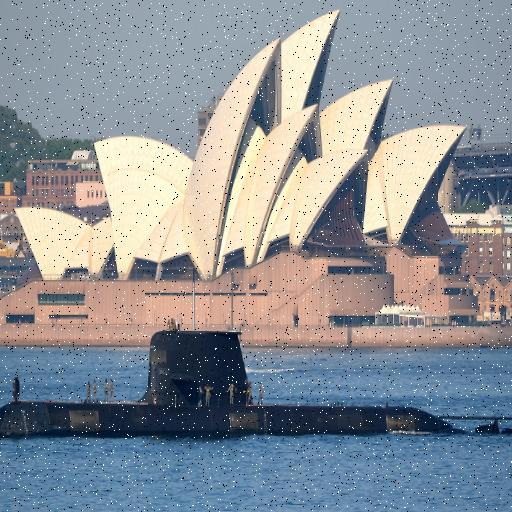submarine: (1, 267, 512, 441)
